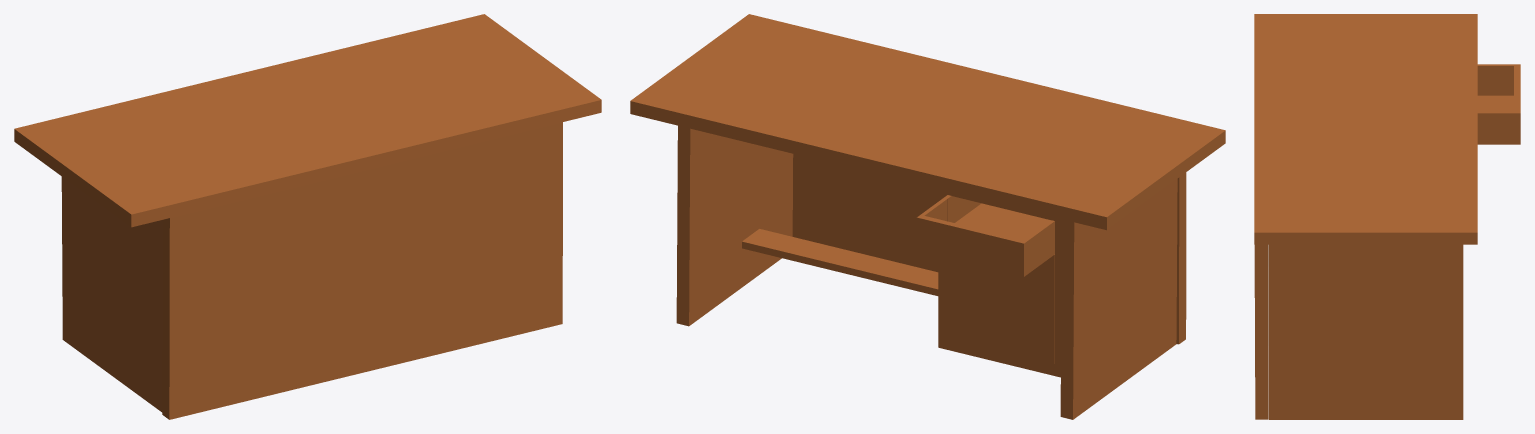
Rendered from Meja.obj.
3 views of the same model, side by side, from view 1: azimuth 30°, elevation 25°; view 2: azimuth 150°, elevation 25°; view 3: azimuth 270°, elevation 25° (orthographic). The views are drawn at different scales.
Parts seen in each view (by area): view 1: Cube.006, Cube, Cube.002; view 2: Cube, Cube.002, Cube.001, Cube.006, Cube.004, Cube.005, Cube.007, Cube.003; view 3: Cube, Cube.001, Cube.005, Cube.006.
Boxes of the visible parts, x1,y1,x2,y2 form: Cube.006: (162, 122, 562, 419); Cube: (14, 14, 601, 227); Cube.002: (61, 176, 162, 412); Cube: (630, 14, 1225, 230); Cube.002: (1060, 179, 1177, 419); Cube.001: (676, 125, 793, 326); Cube.006: (792, 154, 1186, 344); Cube.004: (947, 254, 1054, 363); Cube.005: (916, 195, 1054, 276); Cube.007: (742, 229, 938, 295); Cube.003: (938, 189, 1061, 377); Cube: (1254, 14, 1477, 244); Cube.001: (1269, 244, 1463, 419); Cube.005: (1477, 64, 1520, 144); Cube.006: (1254, 244, 1268, 419).
Bounding box in the file's own units: 7.39 × 3.24 × 3.81.
